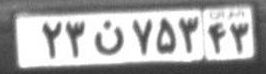character: (89, 18, 126, 60), (127, 17, 154, 58), (39, 19, 64, 63), (63, 18, 88, 62), (226, 18, 251, 58), (155, 16, 179, 57), (180, 15, 200, 57), (207, 20, 226, 56)
